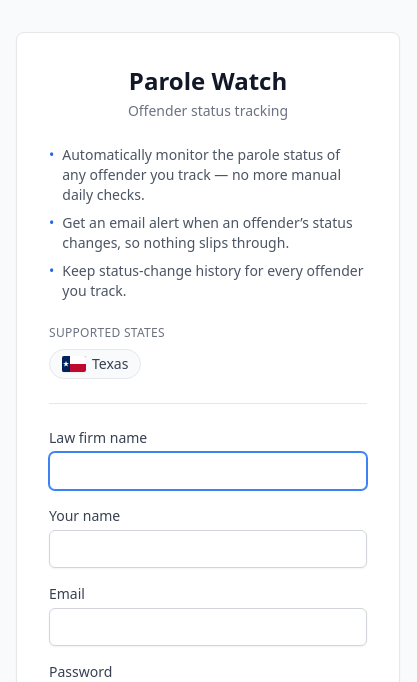
Test: Signup › blocks submit with a weak password
The image size is (417, 682).
Type "Doe & Associates" into the field labelled "Law firm name".
click(208, 471); type("Doe & Associates")  # box [49,452,367,490]
Type "Jane Doe" into the field labelled "Your name".
click(208, 549); type("Jane Doe")  # box [49,530,367,568]
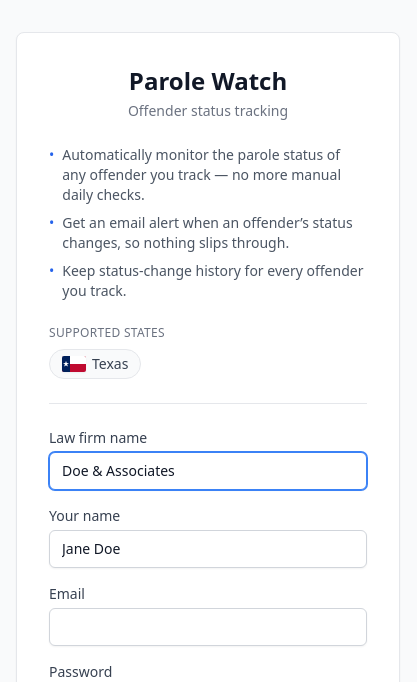
Type "jane@example.com" into the field labelled "Email".
click(208, 627); type("jane@example.com")  # box [49,608,367,646]
(page scrolled)
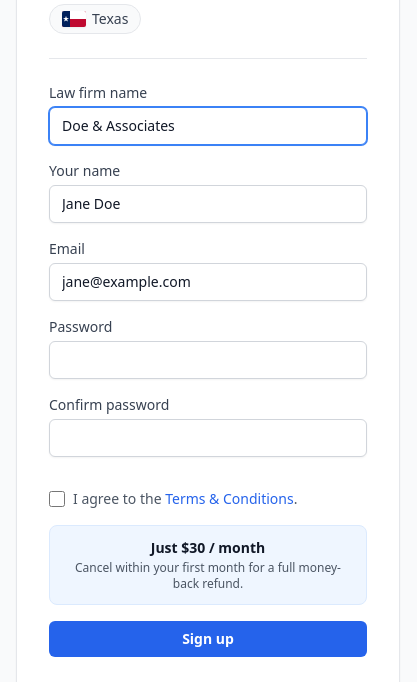
Type "weak" into the password field labelled "Password".
click(208, 360); type("weak")  # box [49,341,367,379]
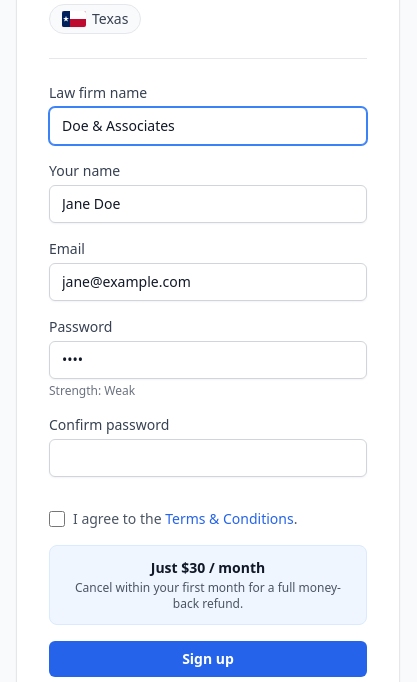
Type "weak" into the password field labelled "Confirm password".
click(208, 458); type("weak")  # box [49,439,367,477]
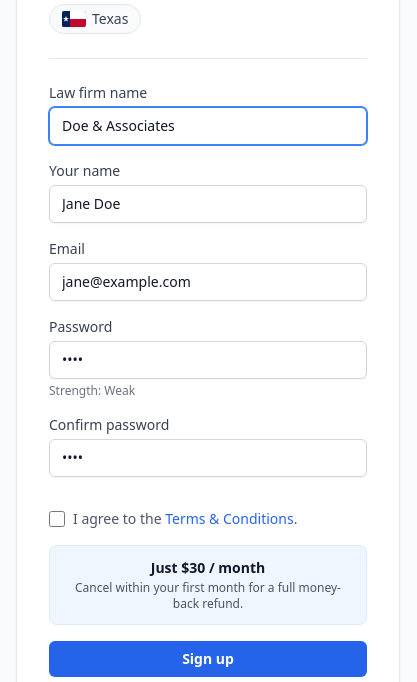
Click the checkbox labelled "I agree to the Terms & Conditions .".
click(57, 519)  # box [49,511,65,527]
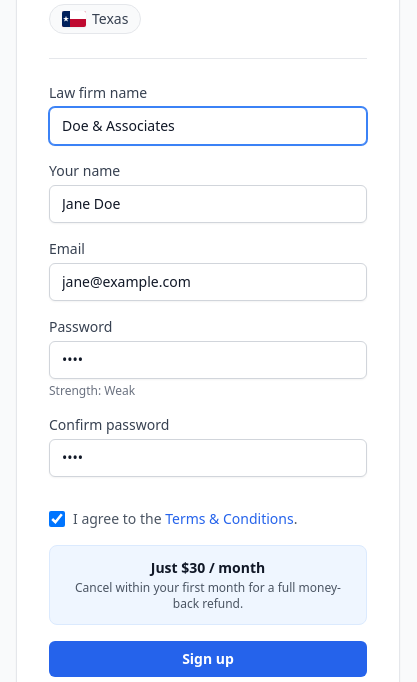
Click the button "Sign up".
click(208, 659)  # box [49,641,367,677]
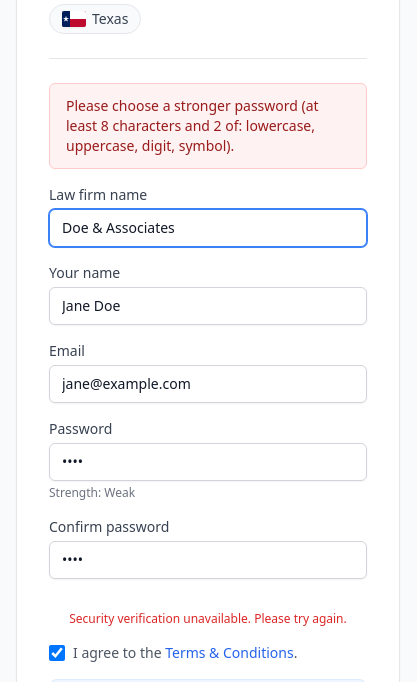
Expected: the text "stronger password" is shown, [66,96,319,155]
